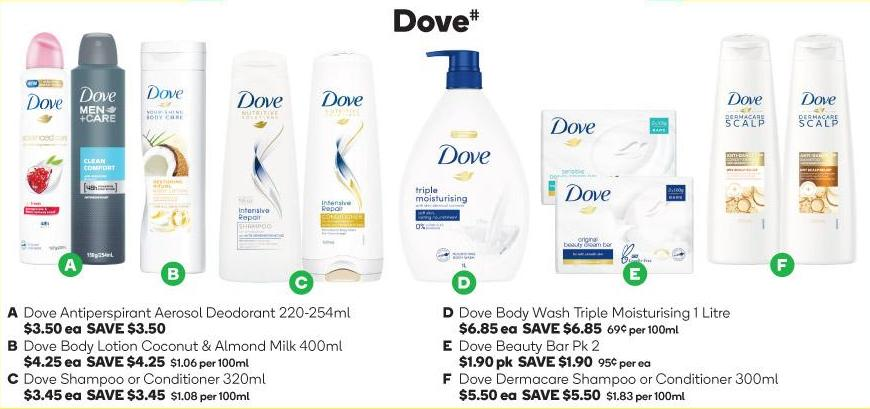description_block: (457, 365, 789, 391), (16, 302, 362, 322), (21, 335, 346, 356), (19, 371, 302, 392), (457, 304, 737, 324), (457, 336, 635, 356)
price_main: (436, 383, 521, 404), (449, 315, 522, 339), (444, 351, 517, 372), (17, 319, 86, 339), (26, 349, 86, 371), (14, 389, 84, 402)
product_image_block: (221, 42, 390, 292), (540, 44, 705, 293), (709, 28, 863, 285), (394, 42, 536, 301), (16, 28, 128, 281), (129, 33, 210, 294)
promo_text_block: (84, 382, 171, 409), (81, 316, 170, 339), (84, 348, 168, 371), (516, 349, 599, 371), (519, 320, 606, 337), (515, 387, 605, 403)
unit_price_block: (601, 389, 694, 406), (601, 320, 683, 339), (163, 388, 259, 403), (163, 356, 259, 370), (596, 354, 654, 372)
